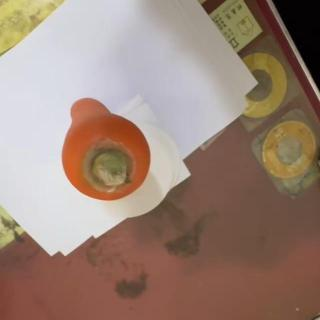carrot: (61, 96, 151, 202)
